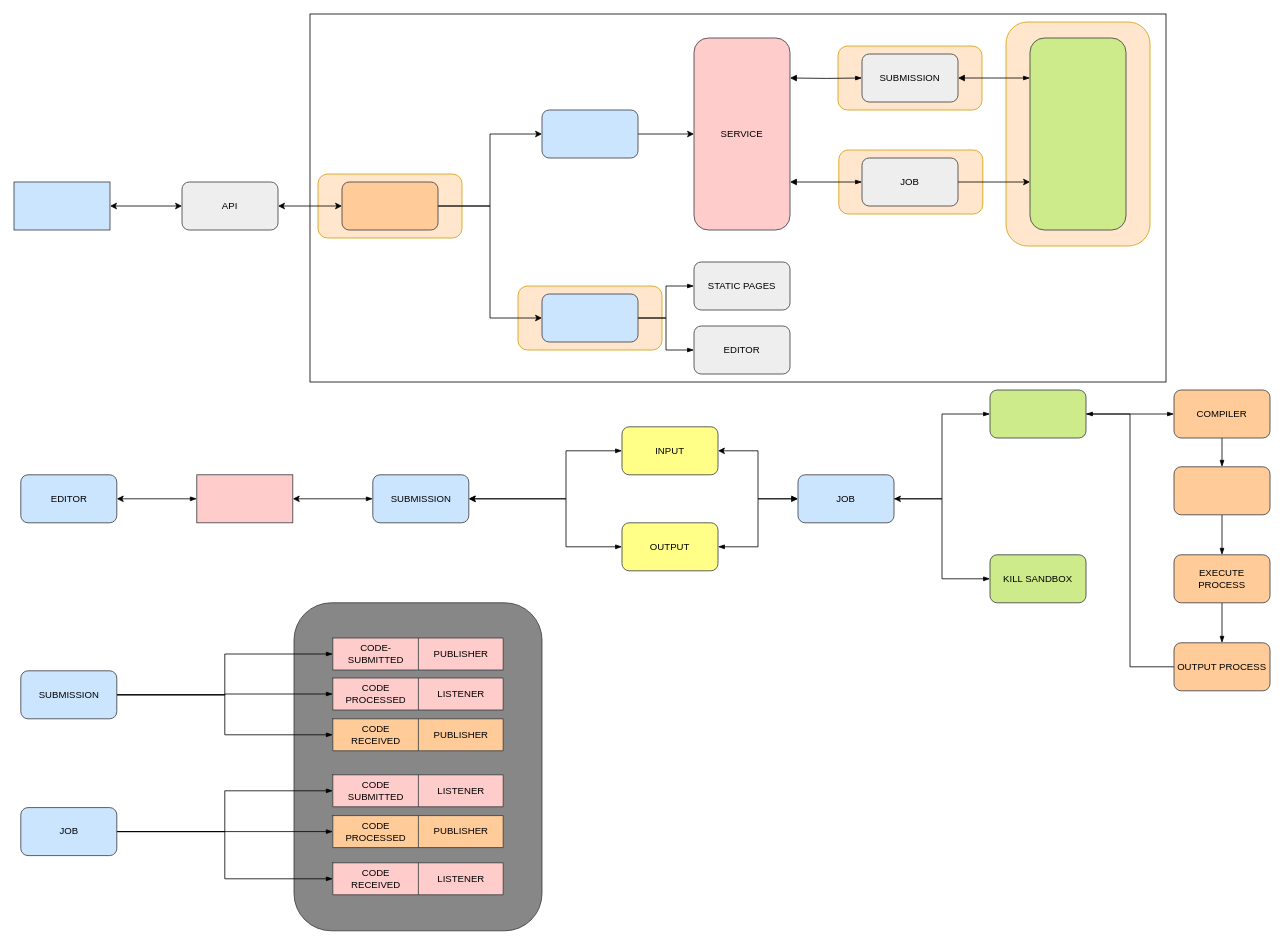
Some shapes in this 1284 by 945 pixel diagram are drawn without their labels. Here are the shapes that lost their labels. From the top down, the centre of each, then its label:
At point (589, 133): "BACKEND".
At point (1077, 133): "NATS".
At point (61, 205): "Client".
At point (389, 205): "Ingress Controller".
At point (589, 317): "FRONTEND".
At point (1037, 413): "START SANDBOX".
At point (244, 498): "BLACKBOX".
At point (1221, 490): "START PROCESS".
